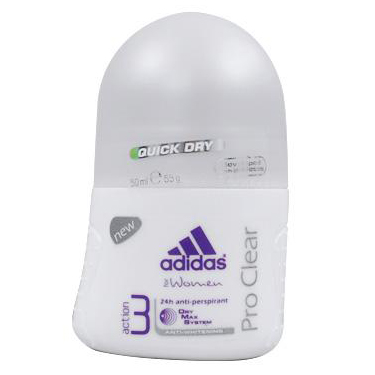Adidas: (160, 225, 229, 276)
